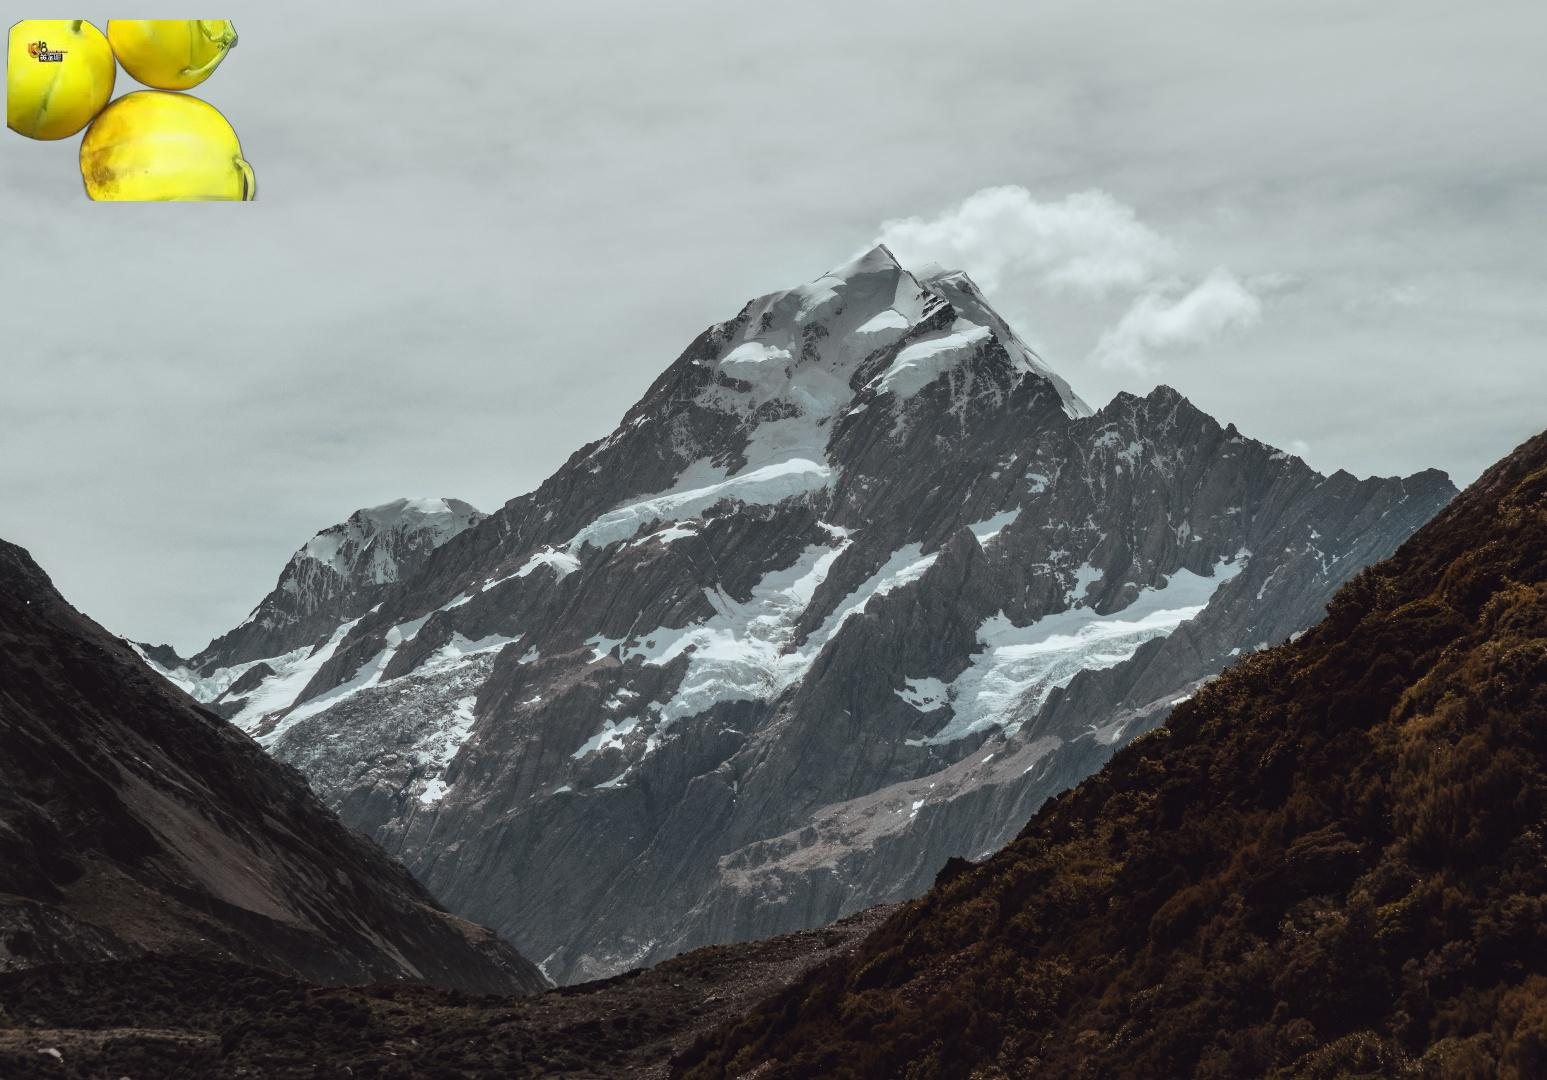biological: (7, 20, 262, 201)
